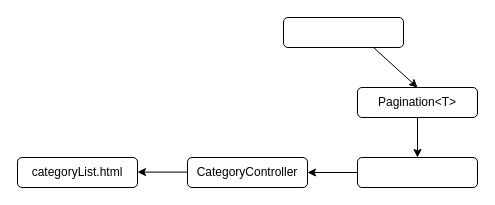
Image size: 495x205. Some labels were removed from this diagram. Here are the shapes that lost their labels. From the top down, the box of each, then its label:
(282, 16, 404, 48): Page
(356, 156, 478, 188): CategoryService
